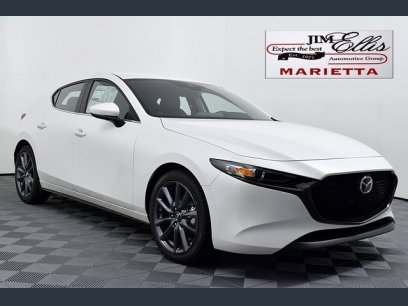Mazda3 Hatchback: (13, 71, 399, 265)
